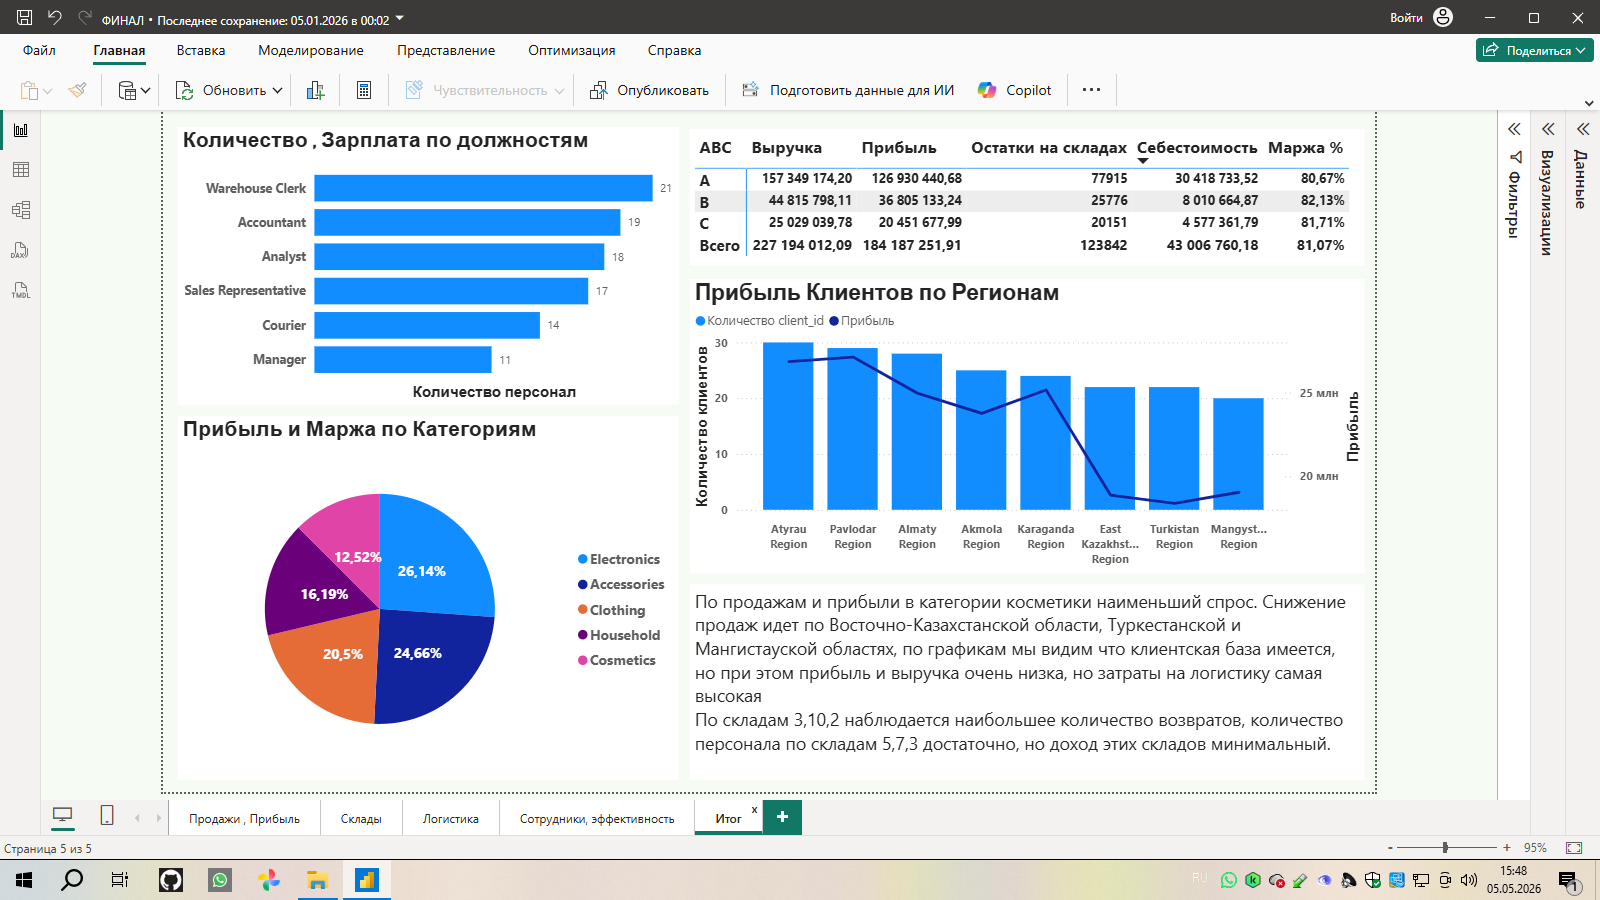

The dashboard page shown, as its layout file describes it:
{"tool":"powerbi","page":{"name":"Итог","canvas":[1280,720],"ordinal":4},"visuals":[{"type":"pivotTable","fields":{"Rows":["Student nomenclature_reference.ABC"],"Values":["Summary.Выручка","Summary.Прибыль","Summary.Остатки на складах","Summary.Себестоимость","Summary.Маржа %"]},"box":[556.5,20.6,712,143.9],"z":0},{"type":"barChart","title":"Количество , Зарплата по  должностям","fields":{"Category":["Student public_staff.position"],"Y":["Summary.Персонал"]},"box":[15.4,18,529.5,293],"z":1000},{"type":"lineStackedColumnComboChart","title":"Прибыль Клиентов по Регионам","fields":{"Y":["CountNonNull(Student public_clients.client_id)"],"Category":["Student public_clients.region"],"Y2":["Summary.Прибыль"]},"box":[556.5,178.6,712,311],"z":2000},{"type":"pieChart","title":"Прибыль и Маржа по Категориям","fields":{"Y":["Summary.Прибыль"],"Category":["Student nomenclature_reference.category"]},"box":[15.4,322.6,528.2,384.3],"z":3000},{"type":"textbox","box":[556.5,499.9,712,206.9],"z":4000}]}

Visuals, with their boxes on the page's 1280x720 design canvas (x1, y1, x2, y2). These are canvas units, not pixel positions in the 1600x900 screenshot, which may show the page scaled, cropped or inside an application window:
pivotTable - Student nomenclature_reference.ABC x Summary.Выручка: region(556, 21, 1268, 164)
"Количество , Зарплата по  должностям" barChart: region(15, 18, 545, 311)
"Прибыль Клиентов по Регионам" lineStackedColumnComboChart: region(556, 179, 1268, 490)
"Прибыль и Маржа по Категориям" pieChart: region(15, 323, 544, 707)
textbox: region(556, 500, 1268, 707)
